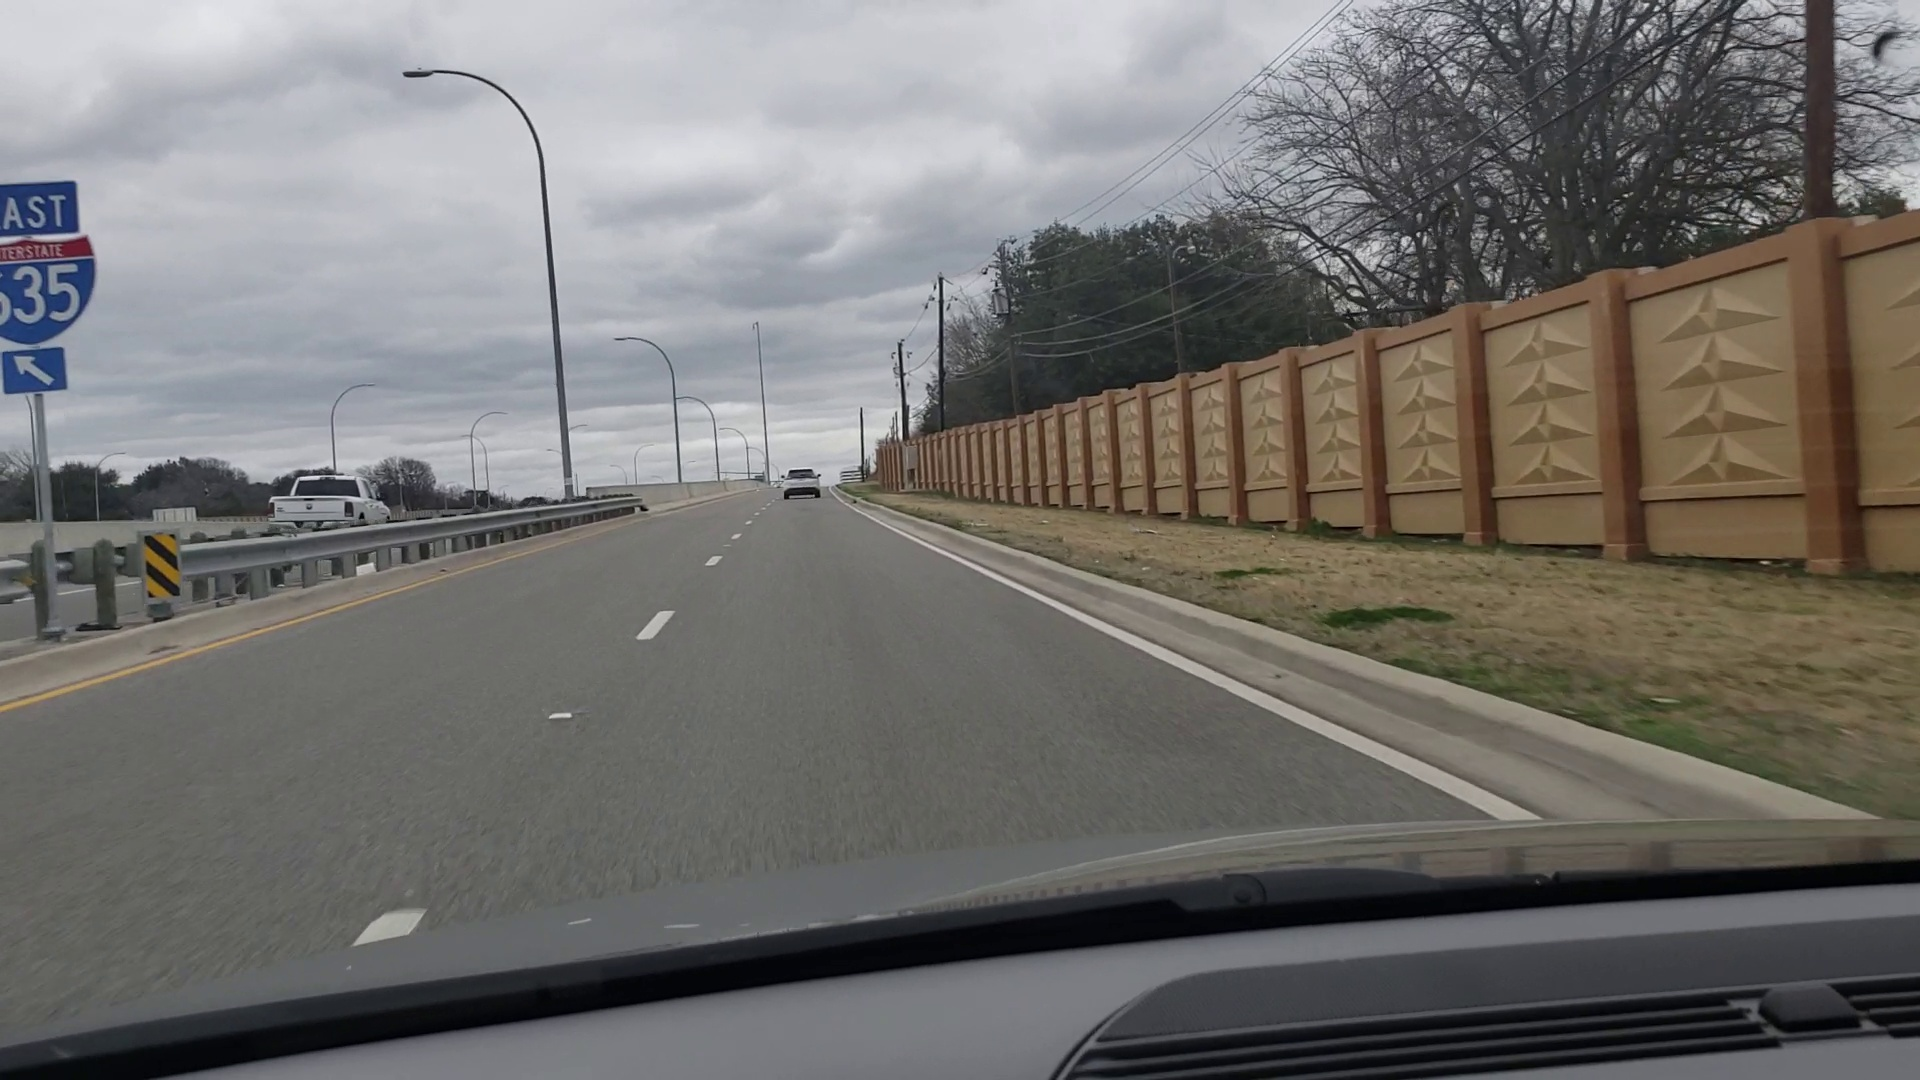car: (778, 469, 827, 504)
truck: (256, 473, 406, 549)
